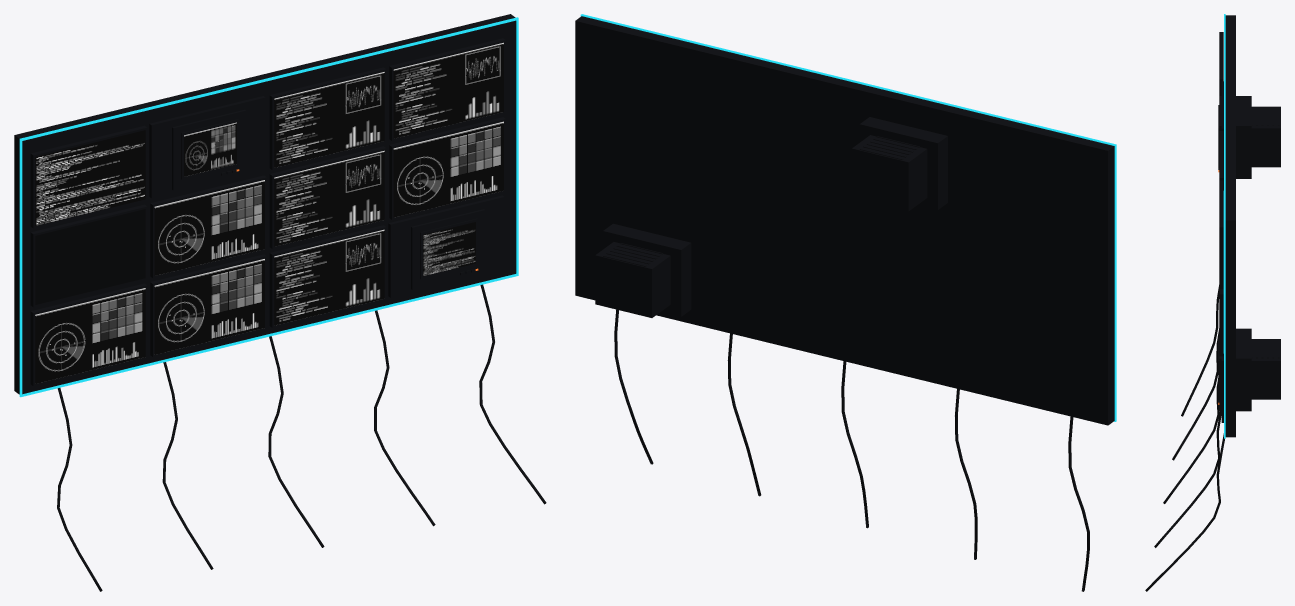
Rendered from Tech_MonitorBank.glb.
3 renders of one model, left to right at view 1: azimuth 30°, elevation 25°; view 2: azimuth 150°, elevation 25°; view 3: azimuth 270°, elevation 25°, orthographic. The views are drawn at different scales.
Parts seen in each view (by area): view 1: Tech_MonitorBank; view 2: Tech_MonitorBank; view 3: Tech_MonitorBank.
Boxes of the visible parts, x1,y1,x2,y2 form: Tech_MonitorBank: [14, 14, 546, 591]; Tech_MonitorBank: [575, 14, 1116, 591]; Tech_MonitorBank: [1145, 14, 1280, 591].
Size of the model in its own units: 2.71 by 2.33 by 0.7548.
7 materials, 3 textured.
